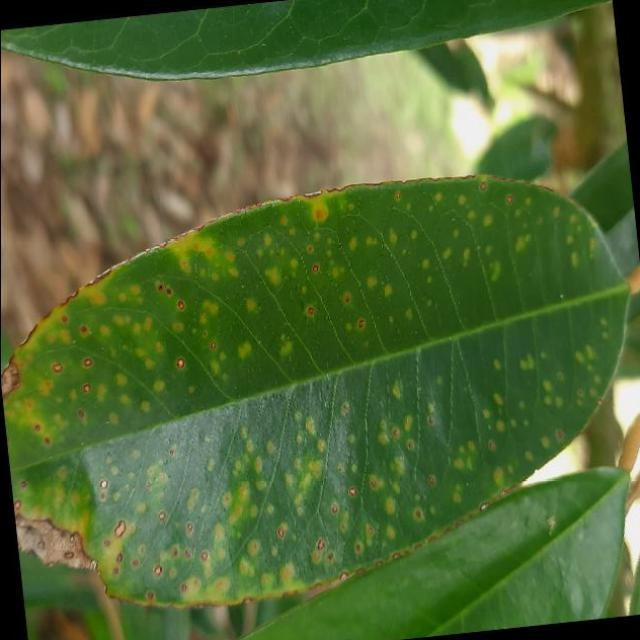Leaf Spot: (0, 149, 640, 638)
